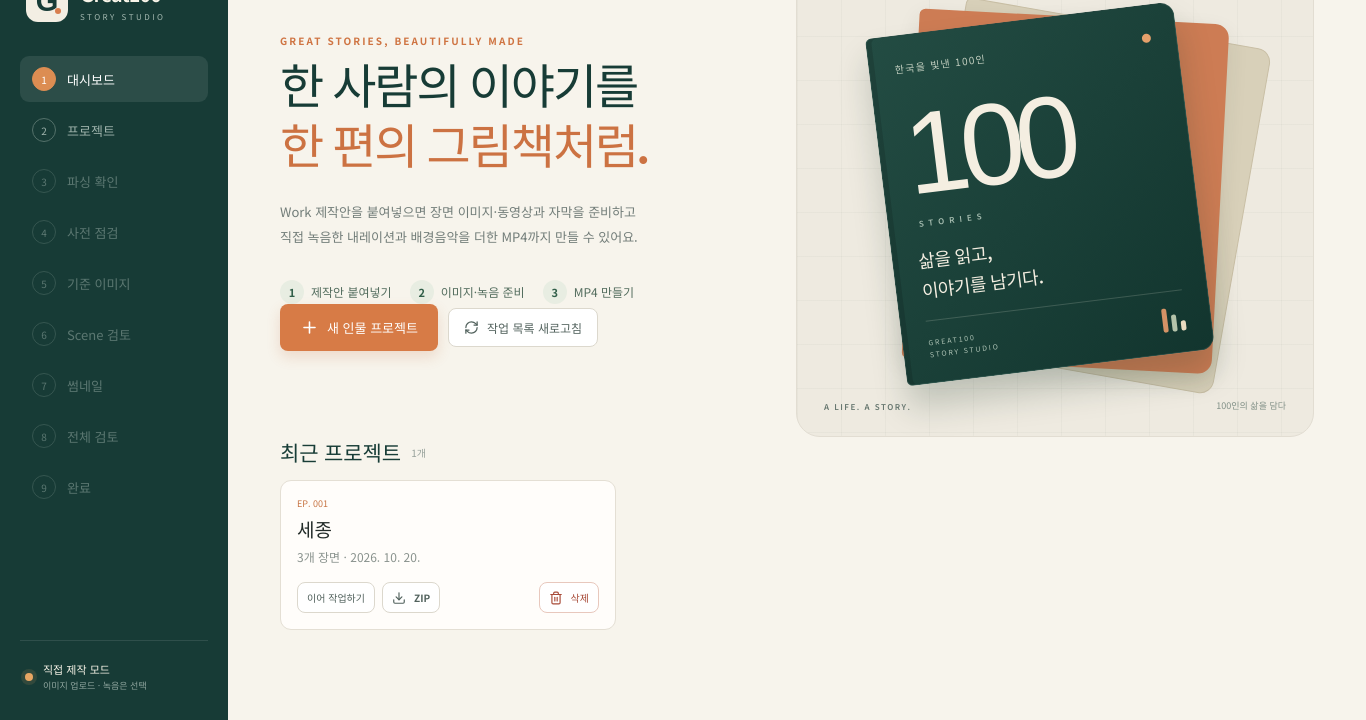
Test: blocks an old response after the user edits captions while the request is running
The image size is (1366, 720).
(page scrolled)
Click the button "이어 작업하기": (336, 598) [297,582,375,613]
(page scrolled)
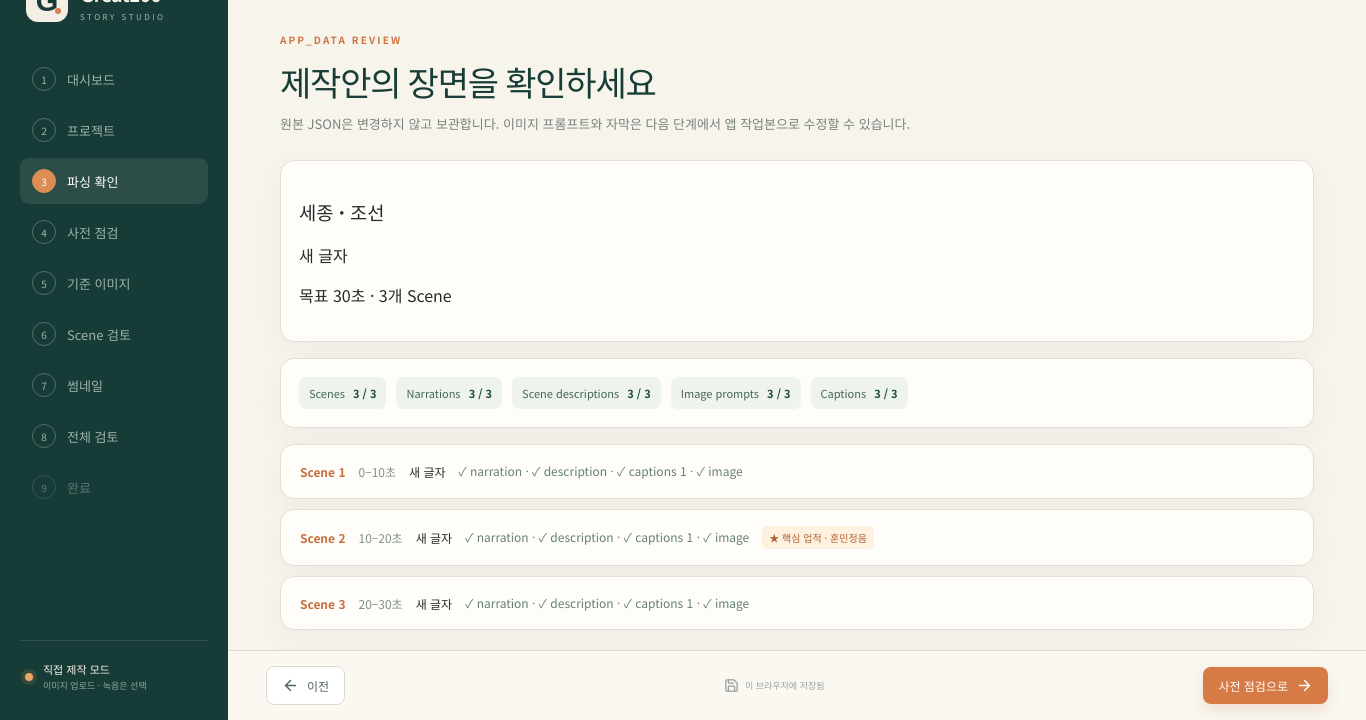
Click the button with aria-label "다음 단계": (1266, 686) [1203,667,1328,704]
(page scrolled)
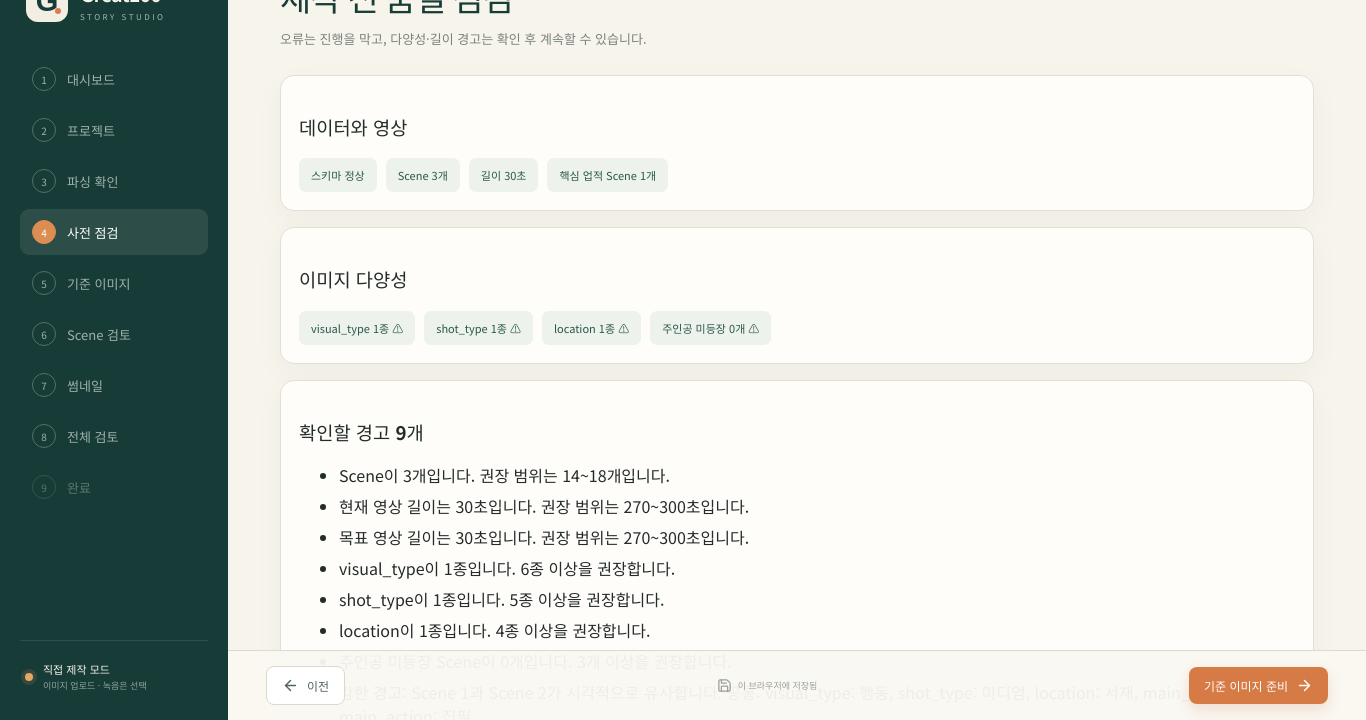
Click the button with aria-label "다음 단계": (1258, 686) [1189,667,1328,704]
(page scrolled)
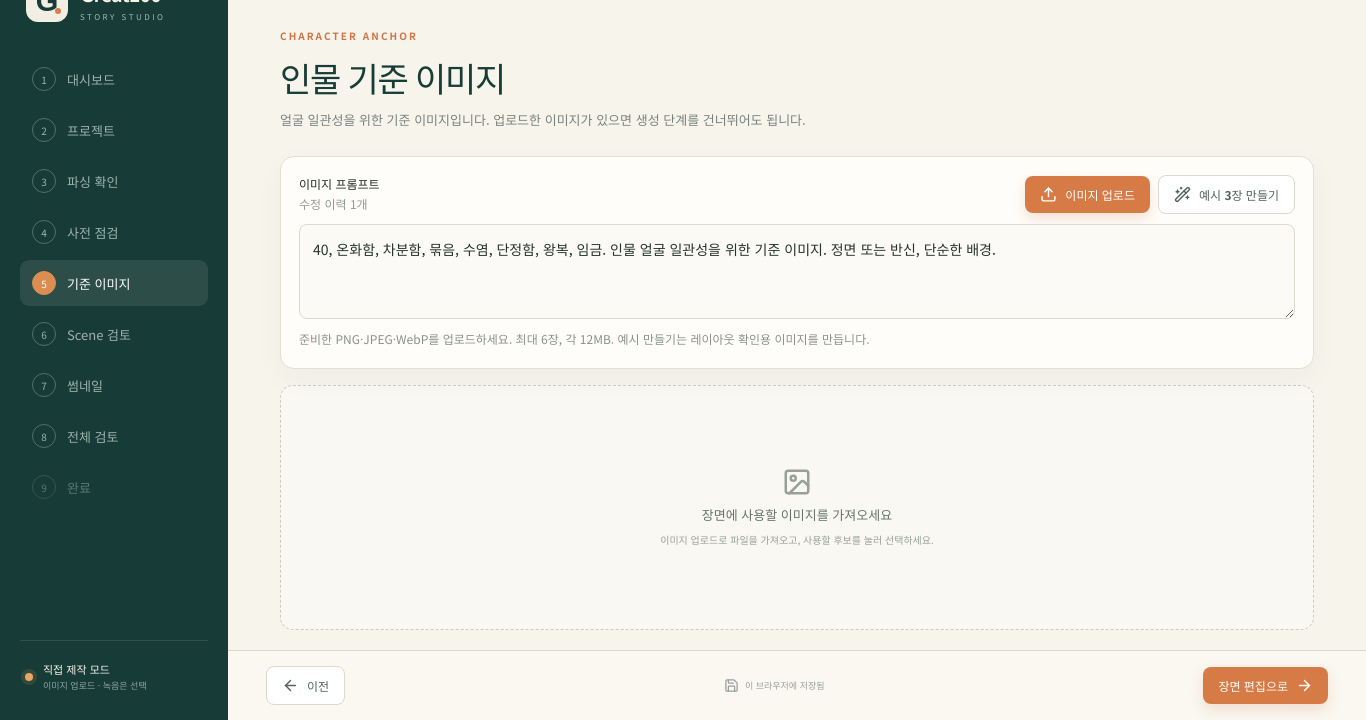
Click the button with aria-label "다음 단계": (1266, 686) [1203,667,1328,704]
(page scrolled)
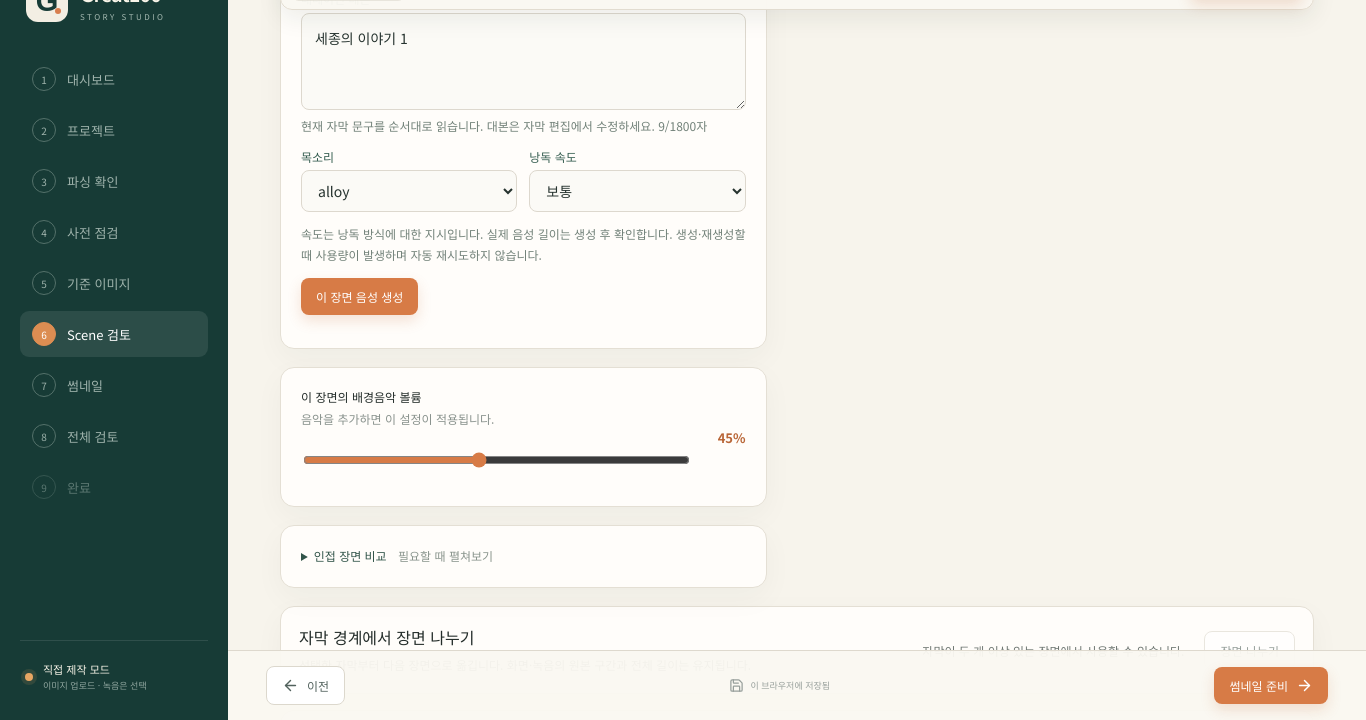
Click the button "이 장면 음성 생성": (360, 296) [301,278,418,315]
(page scrolled)
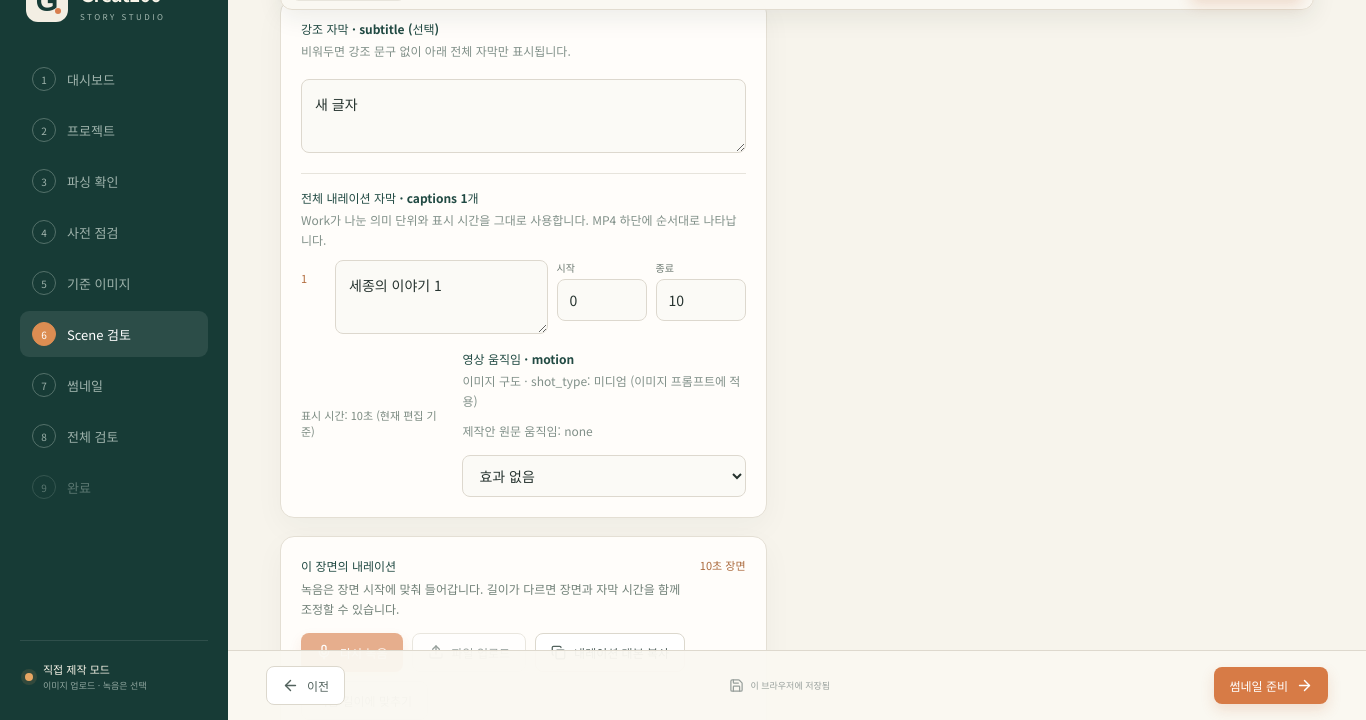
Replace the text in the text box named "Caption 1 텍스트" with "새 대본입니다": (441, 297) [335,260,548,334]
(page scrolled)
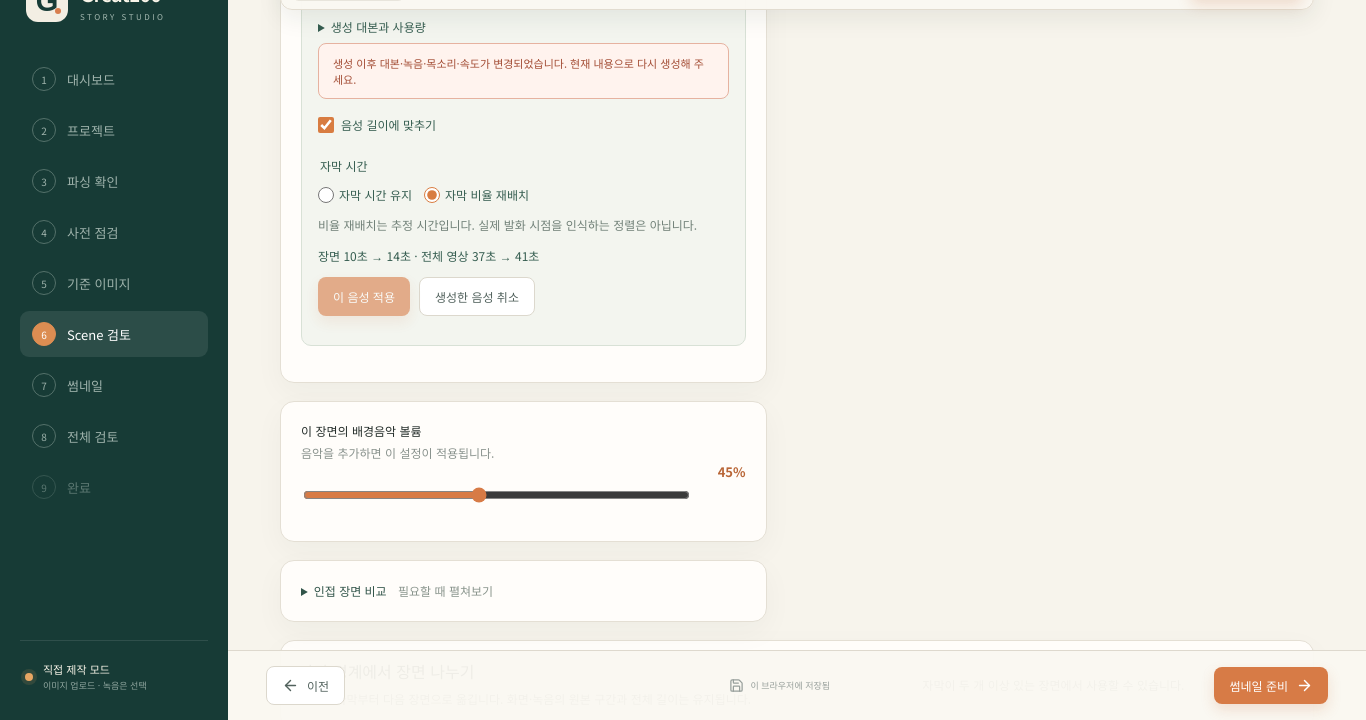
Expected: the button "이 음성 적용" is disabled, [318,277,410,316]
